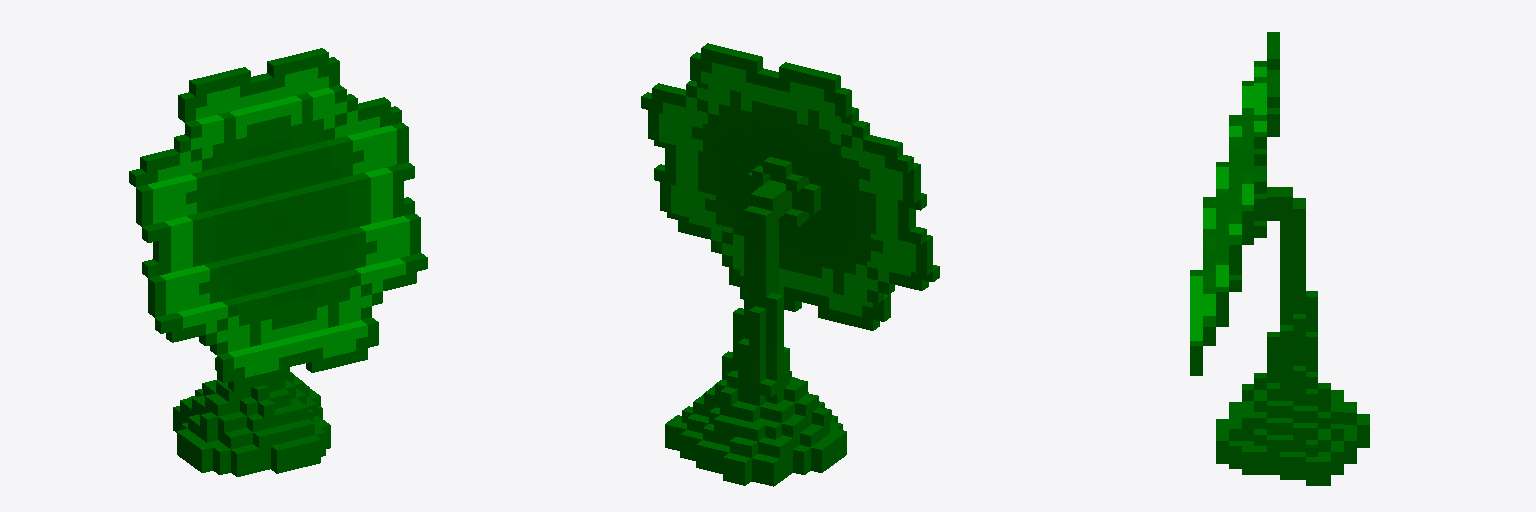
The picture shows the model from 3 angles: view 1: azimuth 30°, elevation 25°; view 2: azimuth 150°, elevation 25°; view 3: azimuth 270°, elevation 25°; orthographic projection.
Parts seen in each view (by area): view 1: object 1; view 2: object 1; view 3: object 1.
Boxes of the visible parts, x1=… form: object 1: x1=129, y1=48, x2=427, y2=476; object 1: x1=641, y1=43, x2=939, y2=486; object 1: x1=1190, y1=32, x2=1369, y2=485.
Bounding box in the file's own units: 2.4 × 3.3 × 1.4.
Materials: 1 (1 with a texture image).